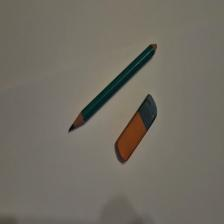eraser: (116, 95, 158, 163)
pencil: (69, 44, 158, 133)
